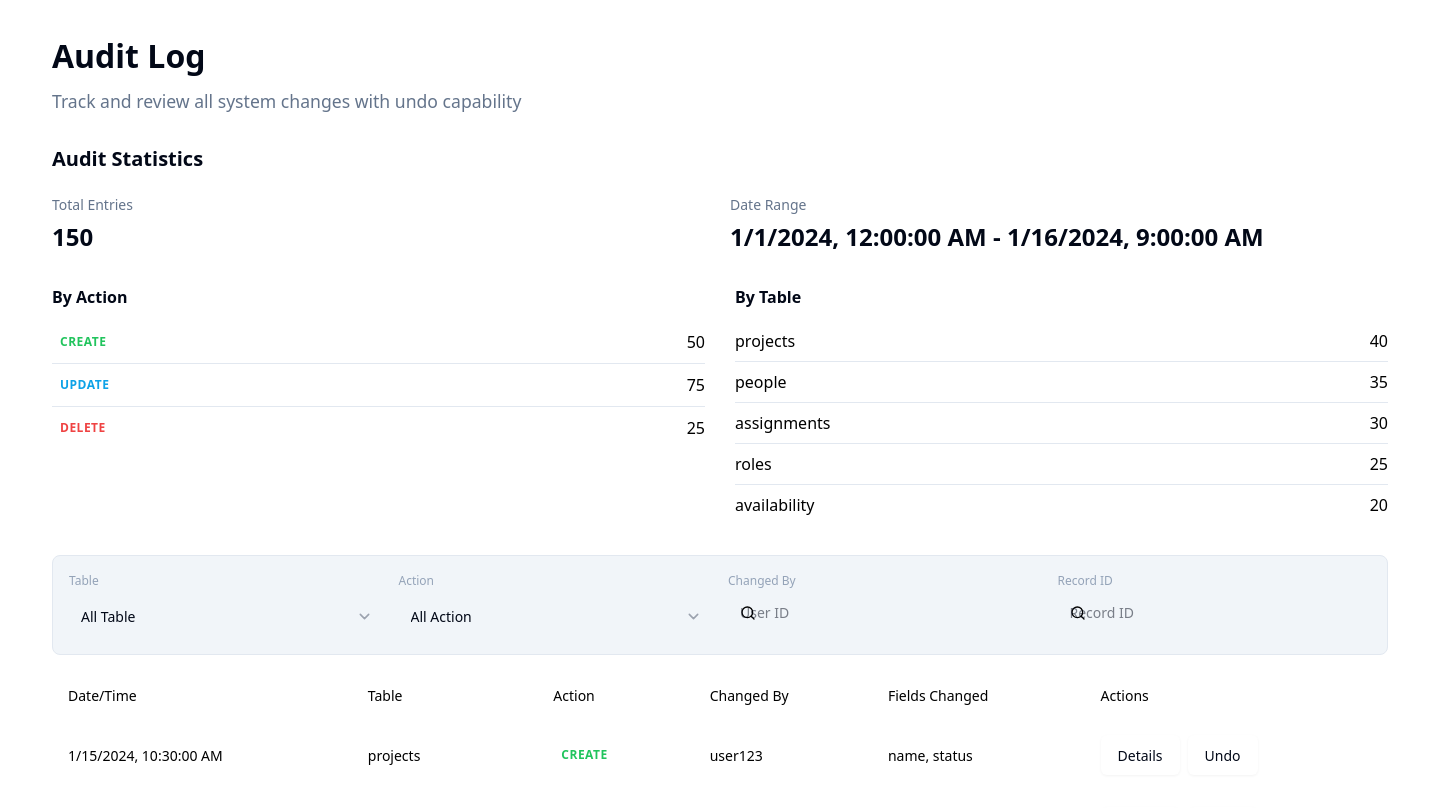
Test case: AuditLog Page › Actions › toggles expanded entry details
# Click details button
Click the button "Details" in the row of "1/15/2024, 10:30:00 AM": [1140, 755] box [1101,735,1180,775]
(page scrolled)
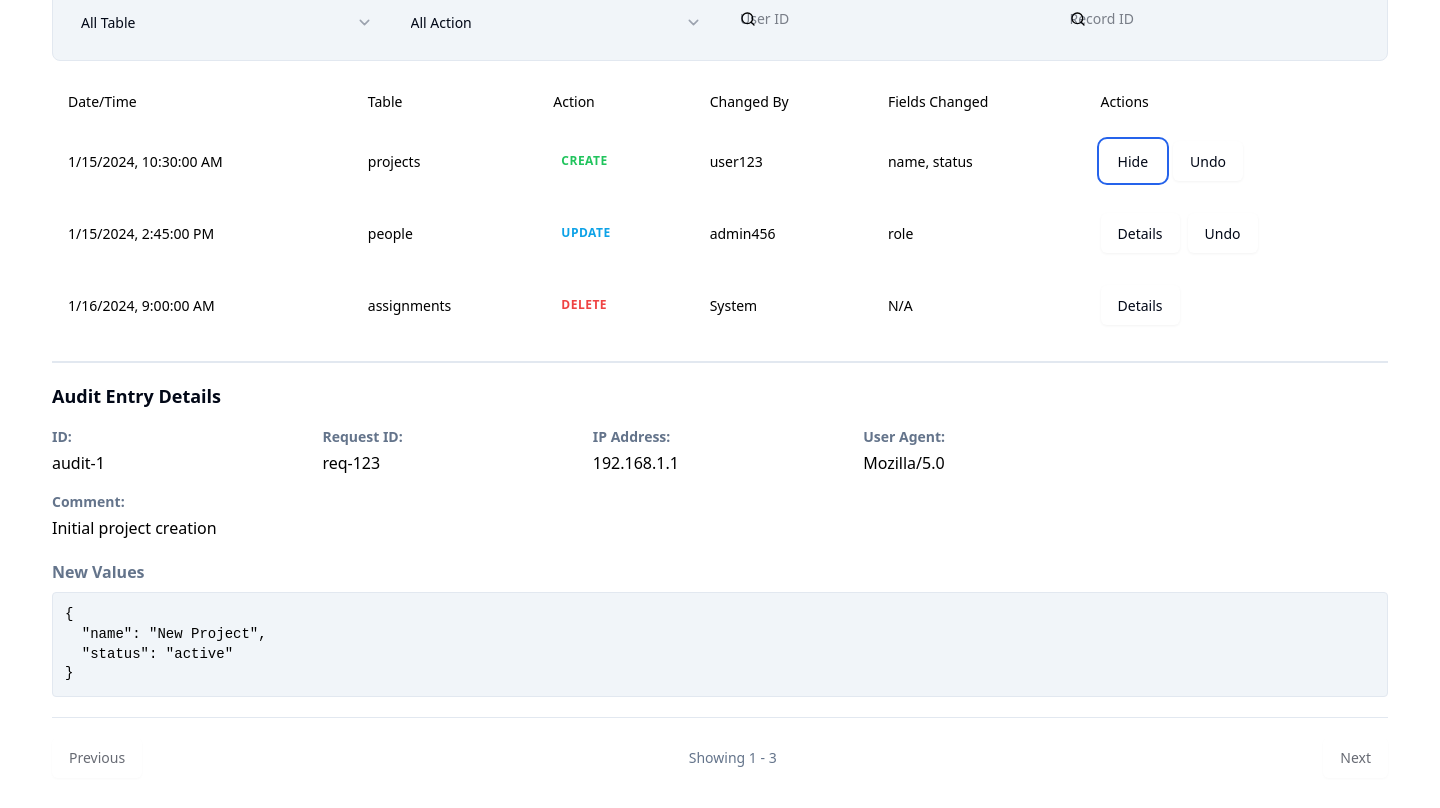
Result: the heading "Audit Entry Details" is shown at [52,384,221,408]
Result: the text "ID:" is shown at [52,427,72,446]
Result: the text "audit-1" is shown at [52,452,105,474]
